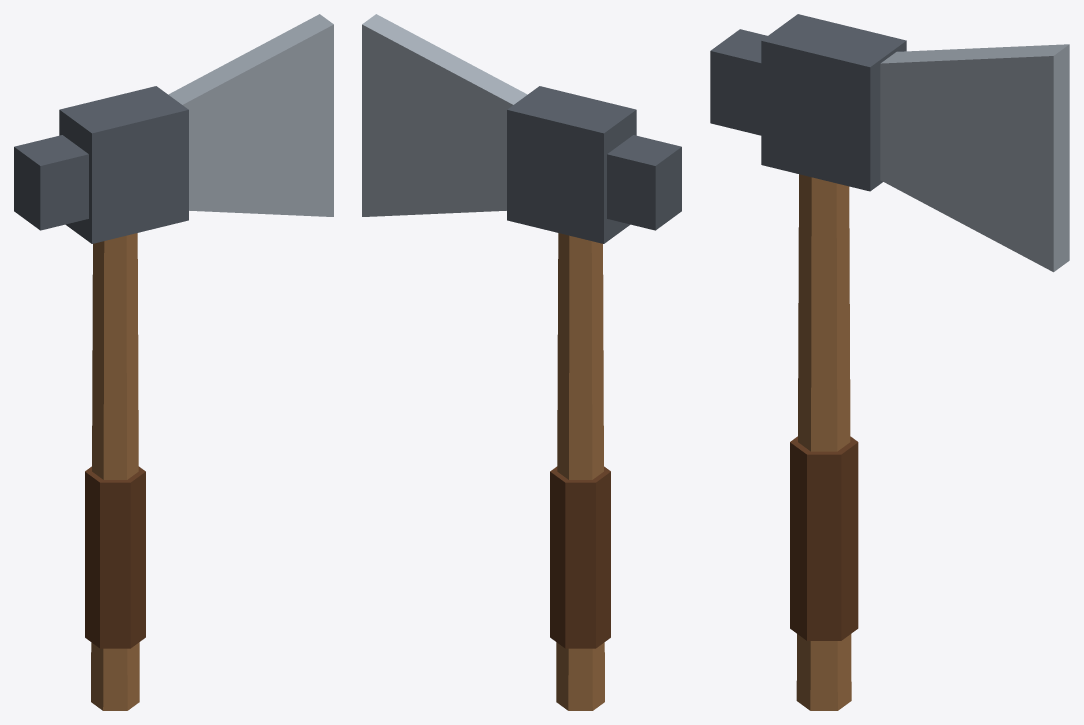
The model's file is Axe.fbx.
The picture shows the model from 3 angles, left to right: view 1: azimuth 30°, elevation 25°; view 2: azimuth 150°, elevation 25°; view 3: azimuth 330°, elevation 25°; orthographic projection. The views are drawn at different scales.
Visible parts, largest first — view 1: Axe; view 2: Axe; view 3: Axe.
Part boxes in pixels (box(x1,y1,x2,y2)): Axe: box(14, 14, 333, 710); Axe: box(362, 14, 681, 710); Axe: box(710, 14, 1069, 710).
Bounding box in the file's own units: 1.7 × 3.42 × 0.32.
Materials: 1 (1 with a texture image).
